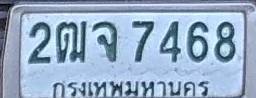2: (28, 21, 51, 63)
4: (159, 20, 181, 62)
6: (187, 21, 208, 62)
7: (132, 20, 154, 62)
8: (214, 21, 235, 62)
A08: (92, 20, 118, 62)
A18: (56, 21, 87, 62)
BKK: (46, 75, 212, 98)
